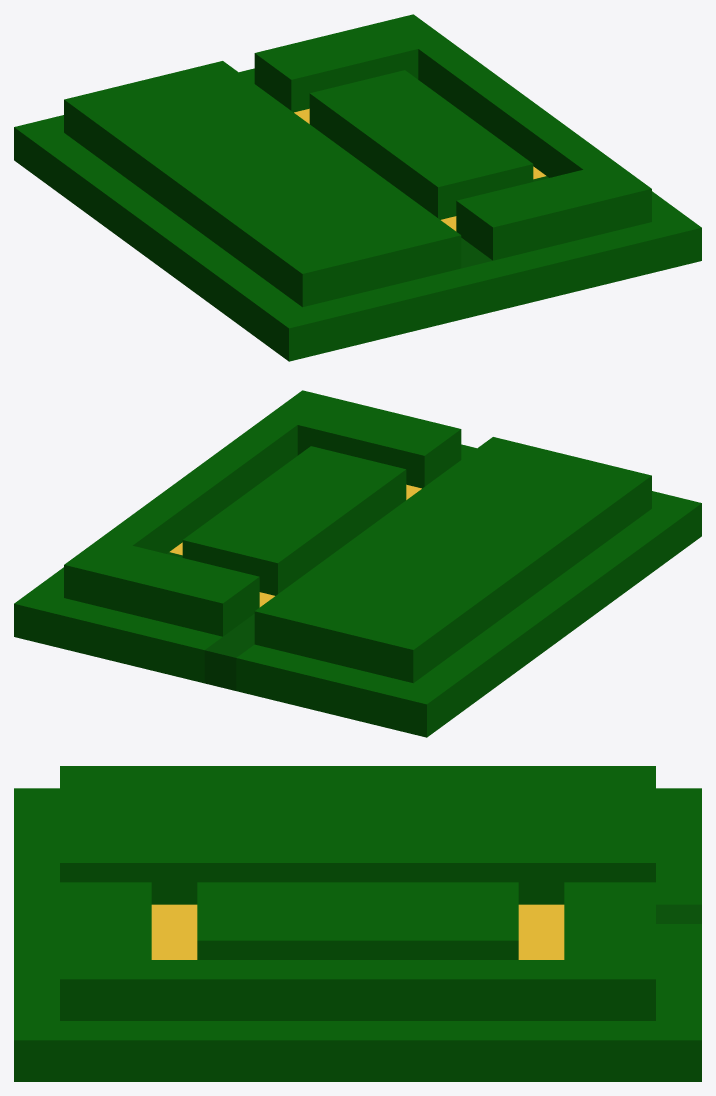
The model's file is closed-circuit-4.gltf.
3 renders of one model, top to bottom at view 1: azimuth 30°, elevation 25°; view 2: azimuth 150°, elevation 25°; view 3: azimuth 270°, elevation 25°, orthographic. The views are drawn at different scales.
Parts seen in each view (by area): view 1: Node; view 2: Node; view 3: Node.
Boxes of the visible parts, x1,y1,x2,y2 form: Node: (14,14,701,361); Node: (14,390,701,737); Node: (14,766,701,1081).
Bounding box in the file's own units: 1.3 × 0.2 × 1.5.
Materials: 1 (1 with a texture image).
